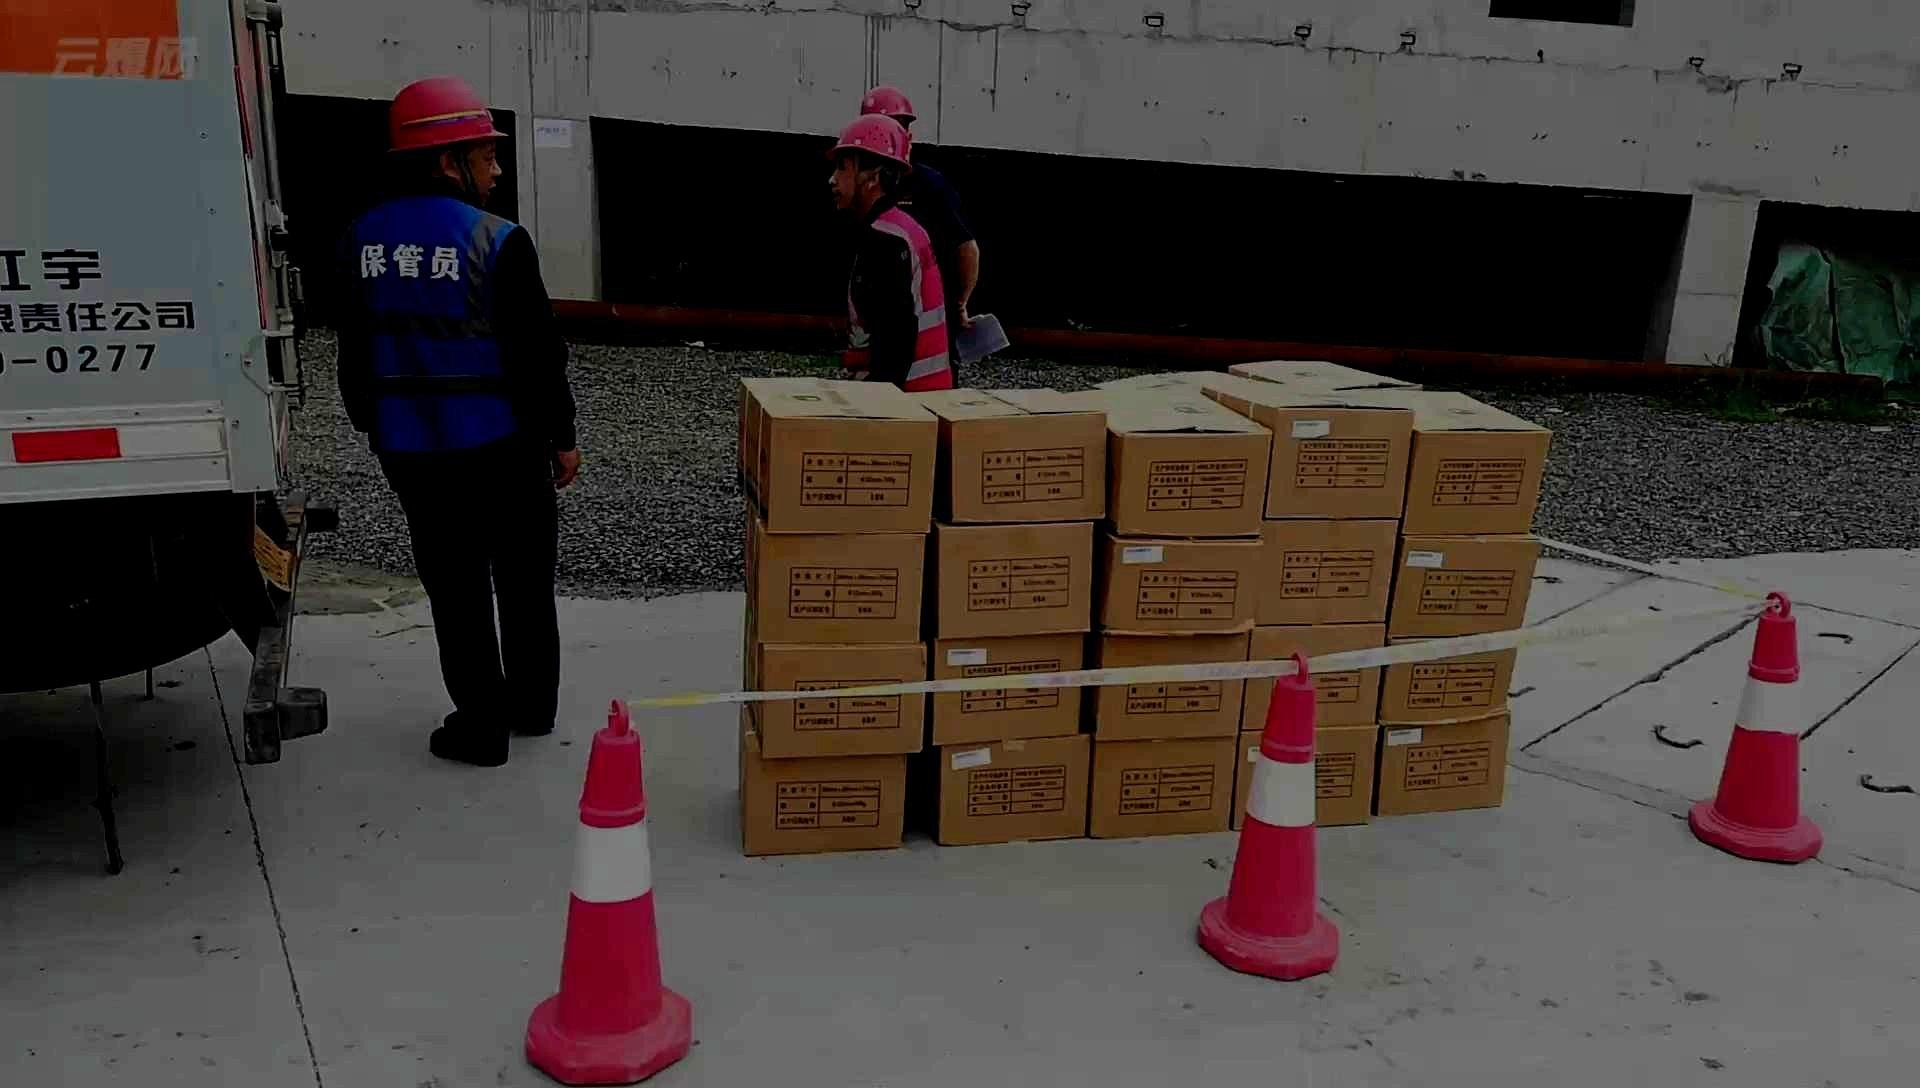helmet: (382, 76, 509, 206), (828, 113, 913, 214), (860, 83, 918, 136)
